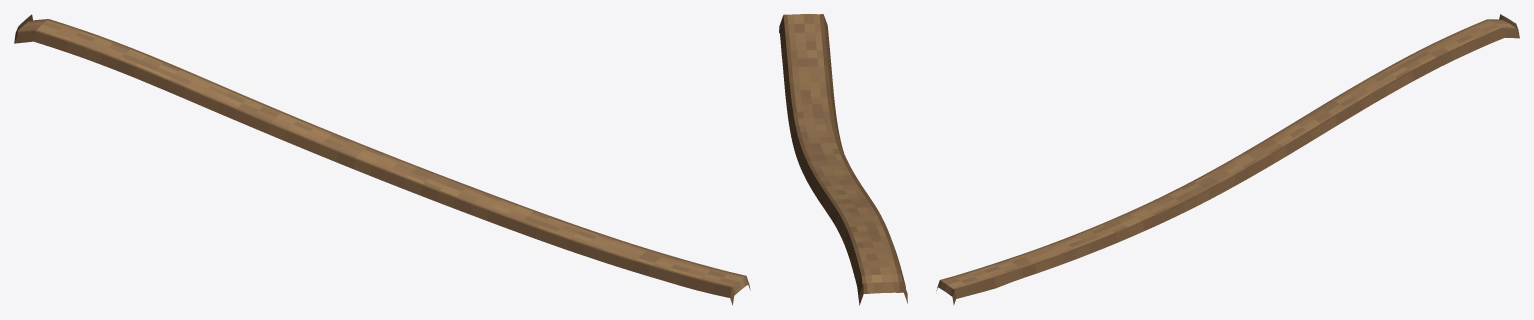
Rendered from road_tower_path.glb.
3 views of the same model, side by side, from view 1: azimuth 90°, elevation 25°; view 2: azimuth 210°, elevation 25°; view 3: azimuth 330°, elevation 25° (orthographic). The views are drawn at different scales.
Parts seen in each view (by area): view 1: road_tower_path; view 2: road_tower_path; view 3: road_tower_path.
Part boxes in pixels (box(x1,y1,x2,y2)): road_tower_path: box(14, 14, 750, 305); road_tower_path: box(779, 14, 907, 305); road_tower_path: box(936, 14, 1519, 305).
Size of the model in its own units: 61.09 by 24.32 by 120.
1 material, 1 textured.
